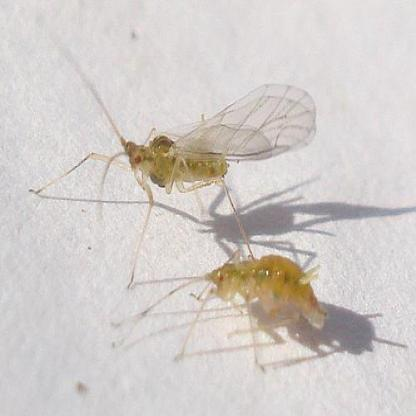aphid: (47, 80, 331, 246), (170, 230, 338, 368)
